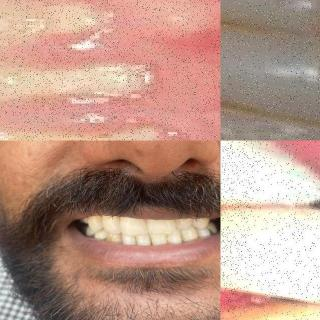Gum Swelling: (13, 0, 220, 140)
maligned: (220, 94, 320, 140)
stains: (102, 233, 122, 244), (177, 230, 187, 244), (140, 220, 152, 230), (162, 233, 172, 244), (146, 234, 154, 246), (95, 216, 105, 225), (116, 216, 124, 224), (131, 237, 138, 246)
